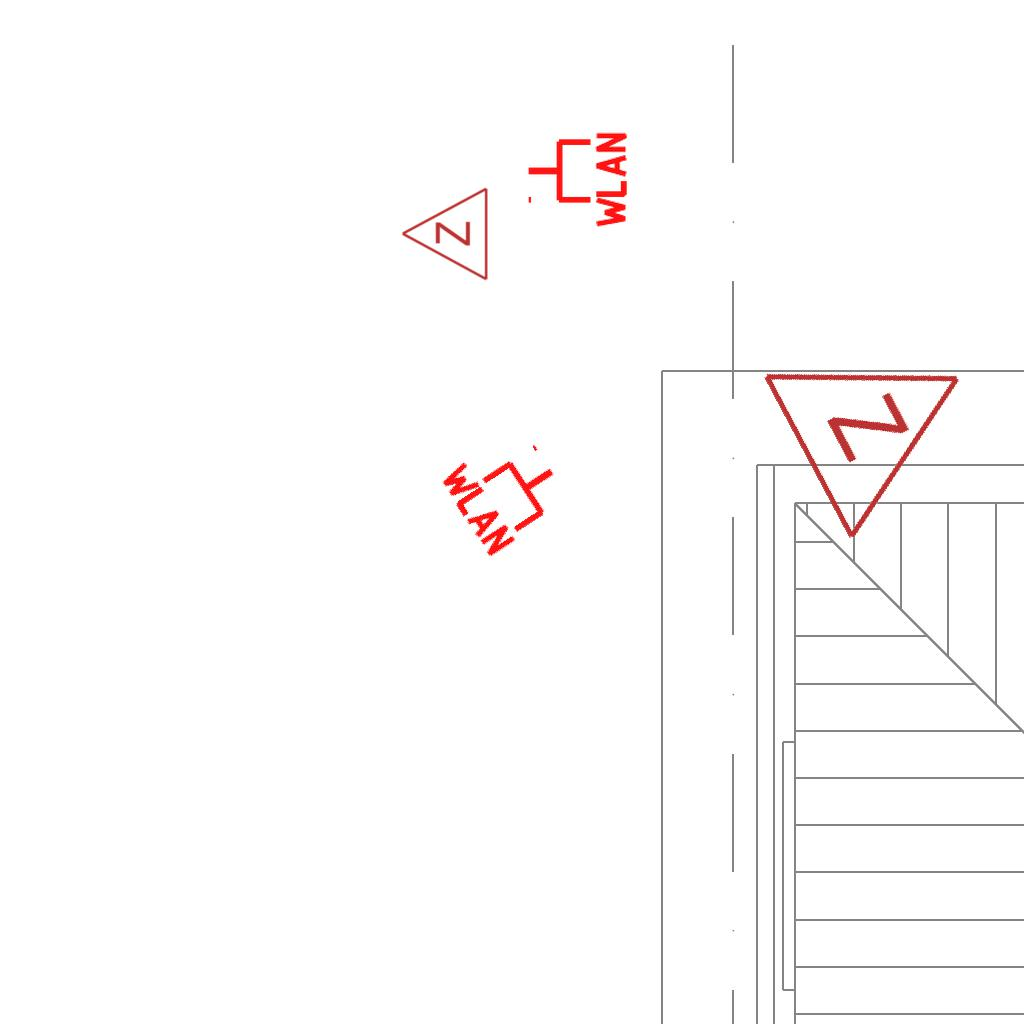WLAN: (434, 417, 579, 563), (524, 128, 629, 232)
Zimmersignalleuchte: (746, 282, 1016, 550), (395, 186, 495, 284)
